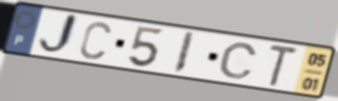5: (128, 24, 165, 69)
C: (217, 41, 260, 80), (78, 19, 113, 61)
I: (171, 30, 197, 76)
J: (37, 12, 81, 57)
T: (265, 42, 300, 88)
